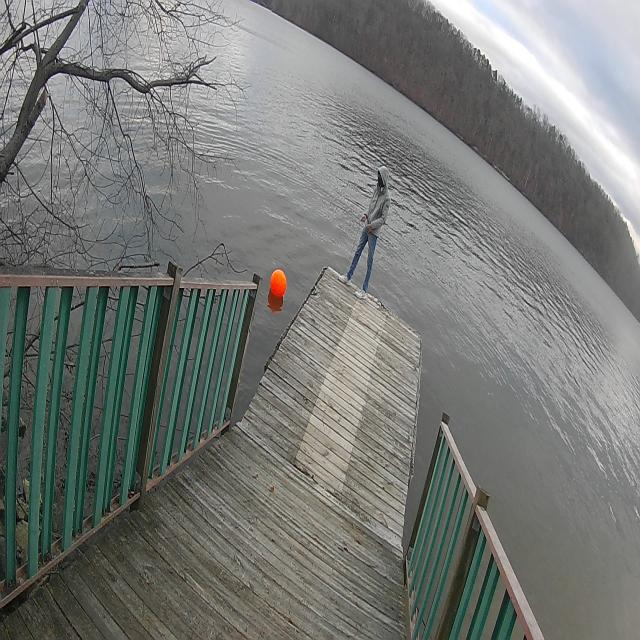Buoy: (269, 258, 289, 302)
